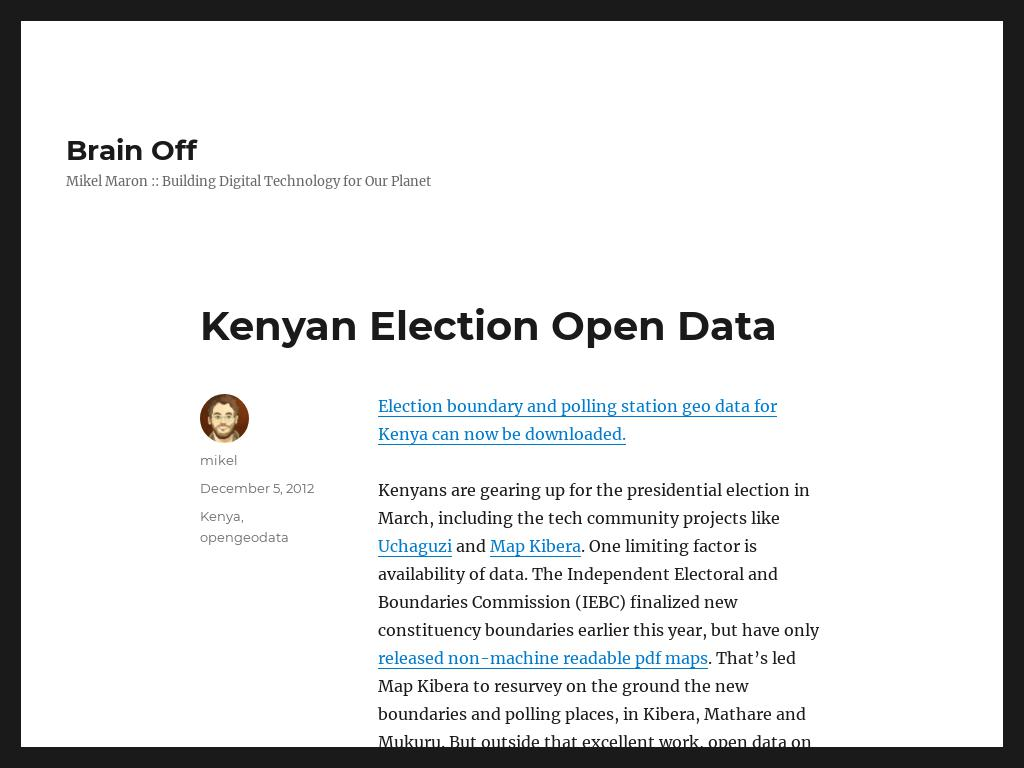button: (378, 396, 778, 444), (378, 648, 709, 668), (490, 536, 582, 556), (378, 536, 453, 556)
heading: (199, 301, 777, 350), (65, 133, 197, 167)
image: (199, 394, 249, 443)
link: (199, 480, 314, 496), (199, 529, 289, 545), (199, 508, 241, 524), (199, 452, 238, 468)
text: (378, 648, 813, 768), (378, 536, 820, 640), (378, 480, 811, 528), (65, 175, 431, 189), (452, 536, 491, 556), (240, 508, 244, 524)
